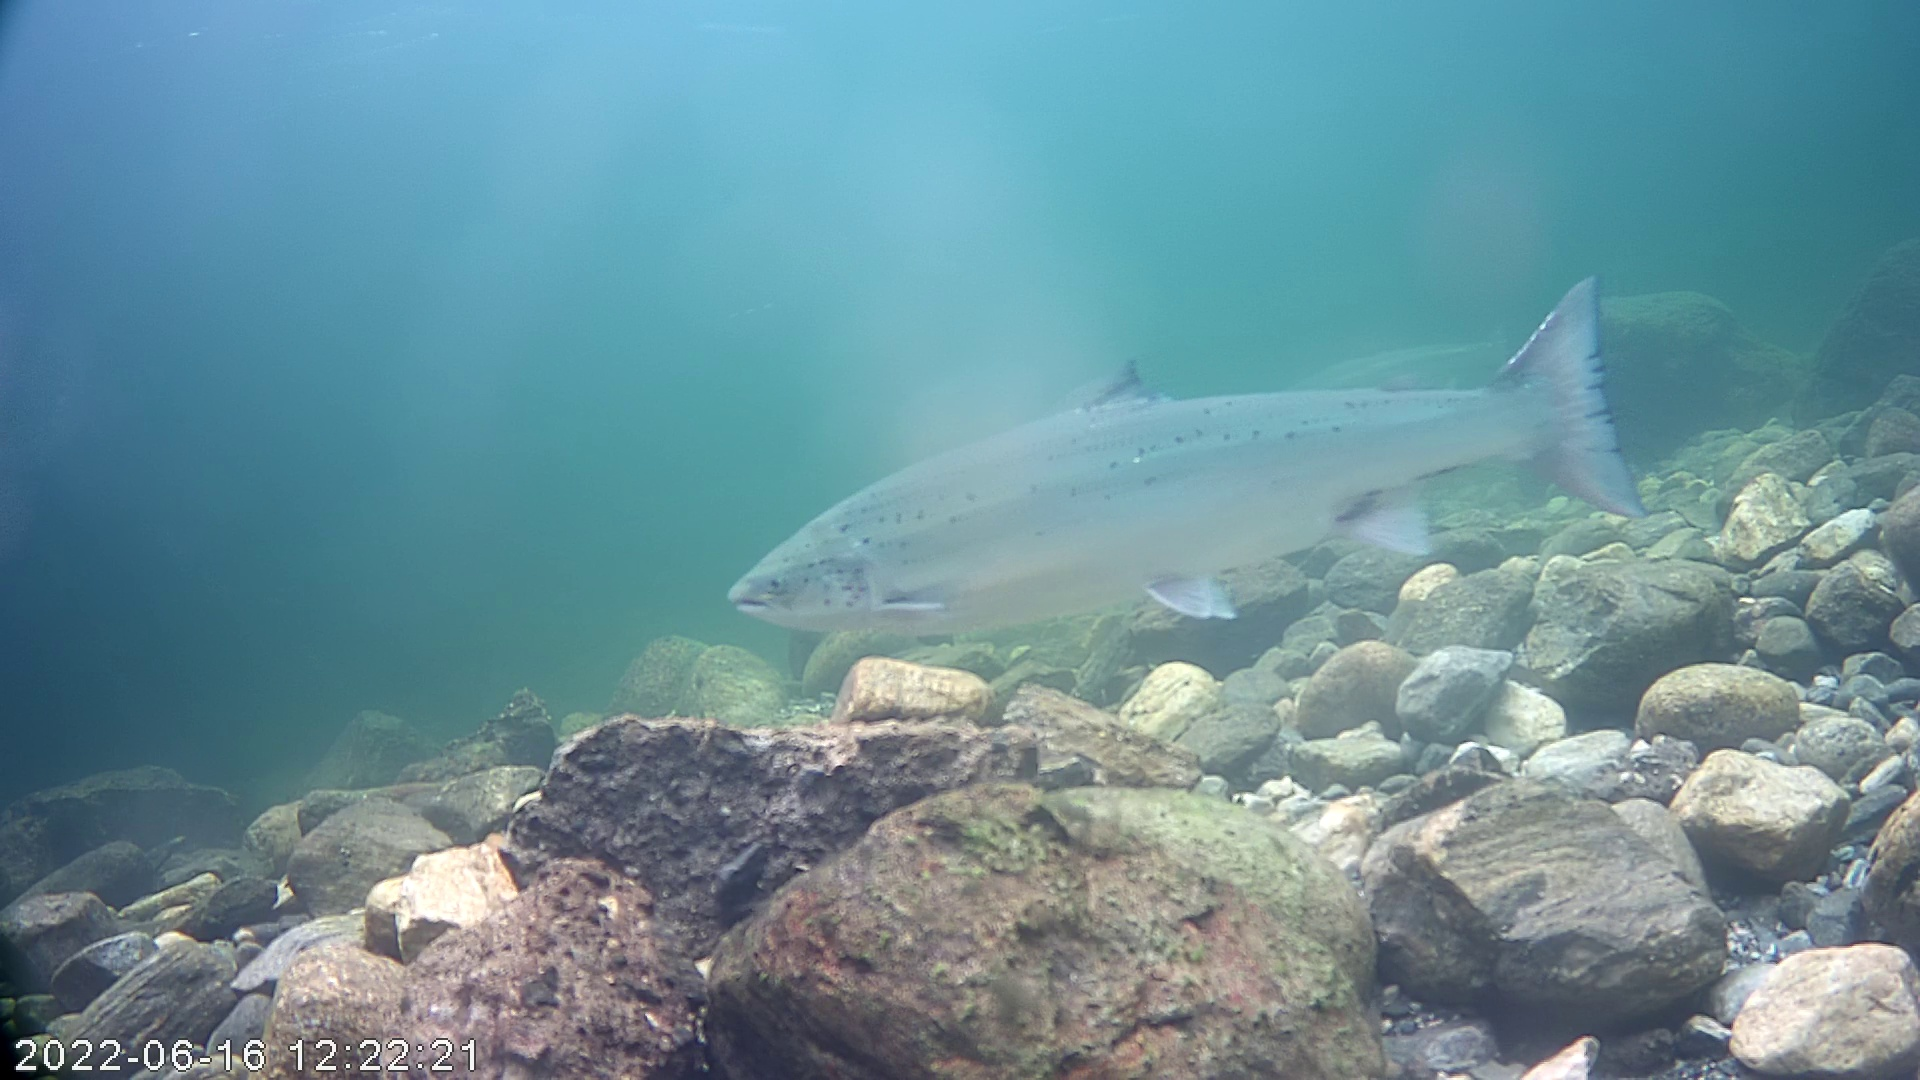salmon: (717, 268, 1651, 640)
